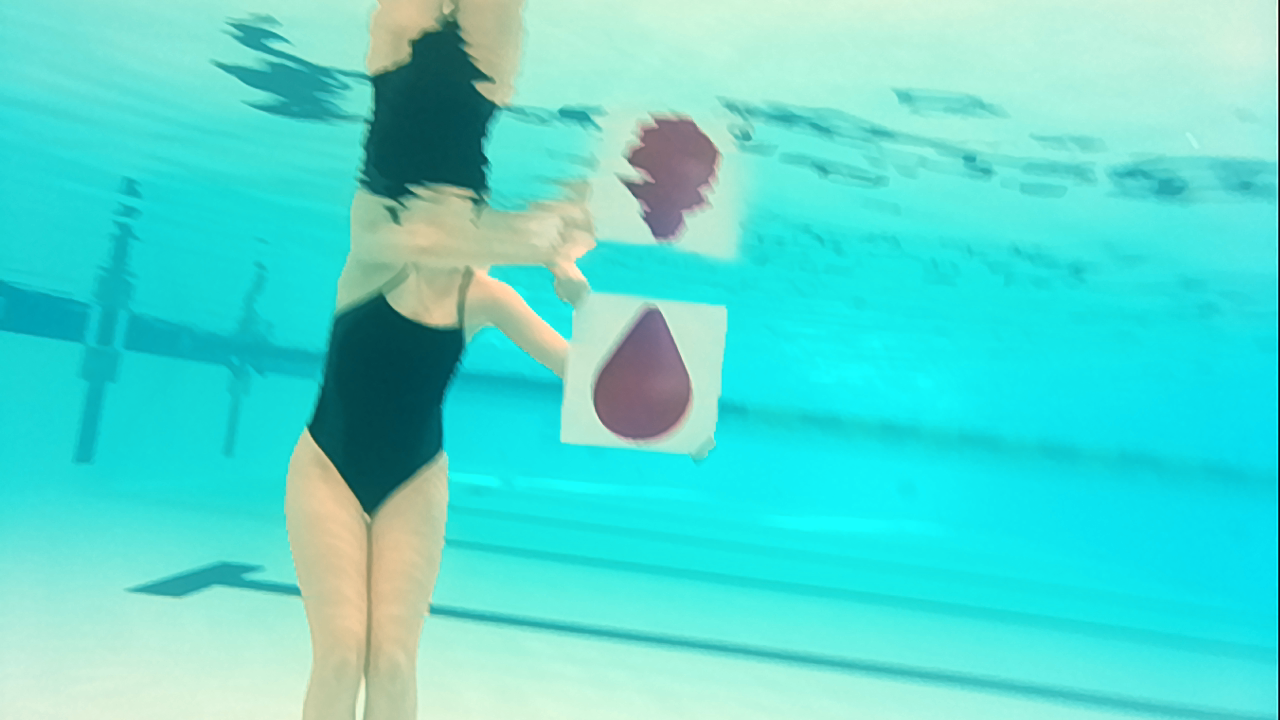blood: (569, 300, 717, 448)
